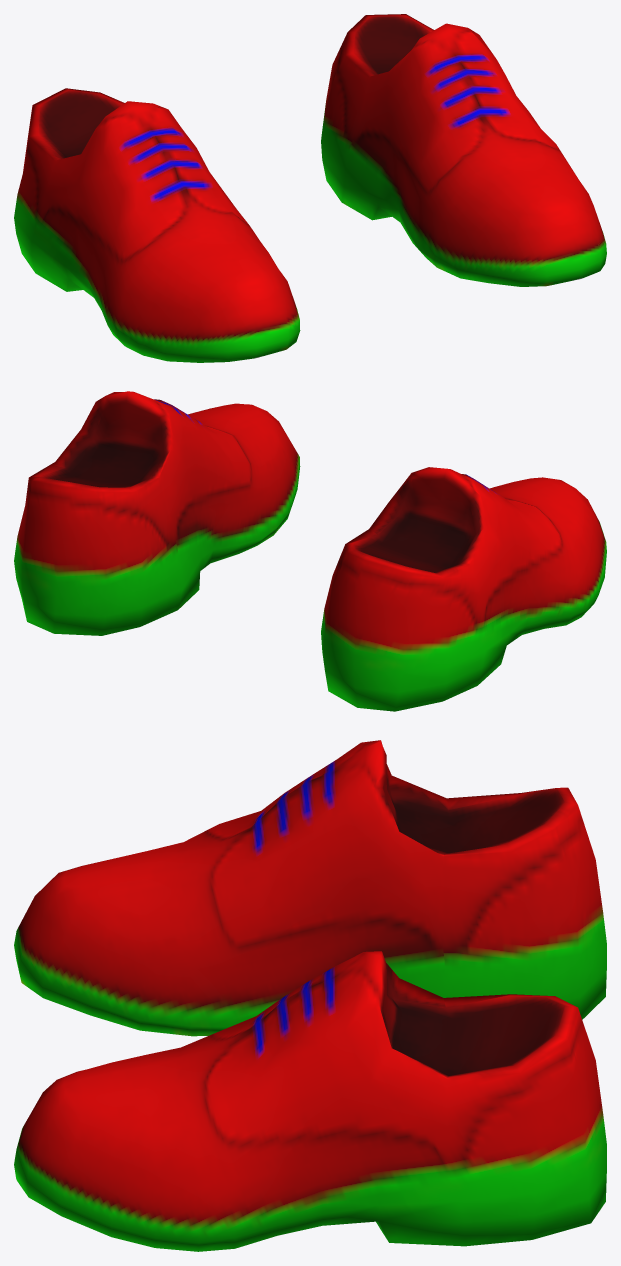
File: BSMC_Outfit_Feet_OfficeShoes.obj
The picture shows the model from 3 angles, top to bottom: view 1: azimuth 30°, elevation 25°; view 2: azimuth 150°, elevation 25°; view 3: azimuth 270°, elevation 25°; orthographic projection. The views are drawn at different scales.
Parts seen in each view (by area): view 1: BSMC_Outfit_Feet_OfficeShoes_0; view 2: BSMC_Outfit_Feet_OfficeShoes_0; view 3: BSMC_Outfit_Feet_OfficeShoes_0.
Part boxes in pixels (<box>): BSMC_Outfit_Feet_OfficeShoes_0: <box>14,14,606,362</box>; BSMC_Outfit_Feet_OfficeShoes_0: <box>14,391,606,711</box>; BSMC_Outfit_Feet_OfficeShoes_0: <box>14,740,606,1251</box>.
Bounding box in the file's own units: 0.3429 × 0.1264 × 0.2703.
1 material, 1 textured.
